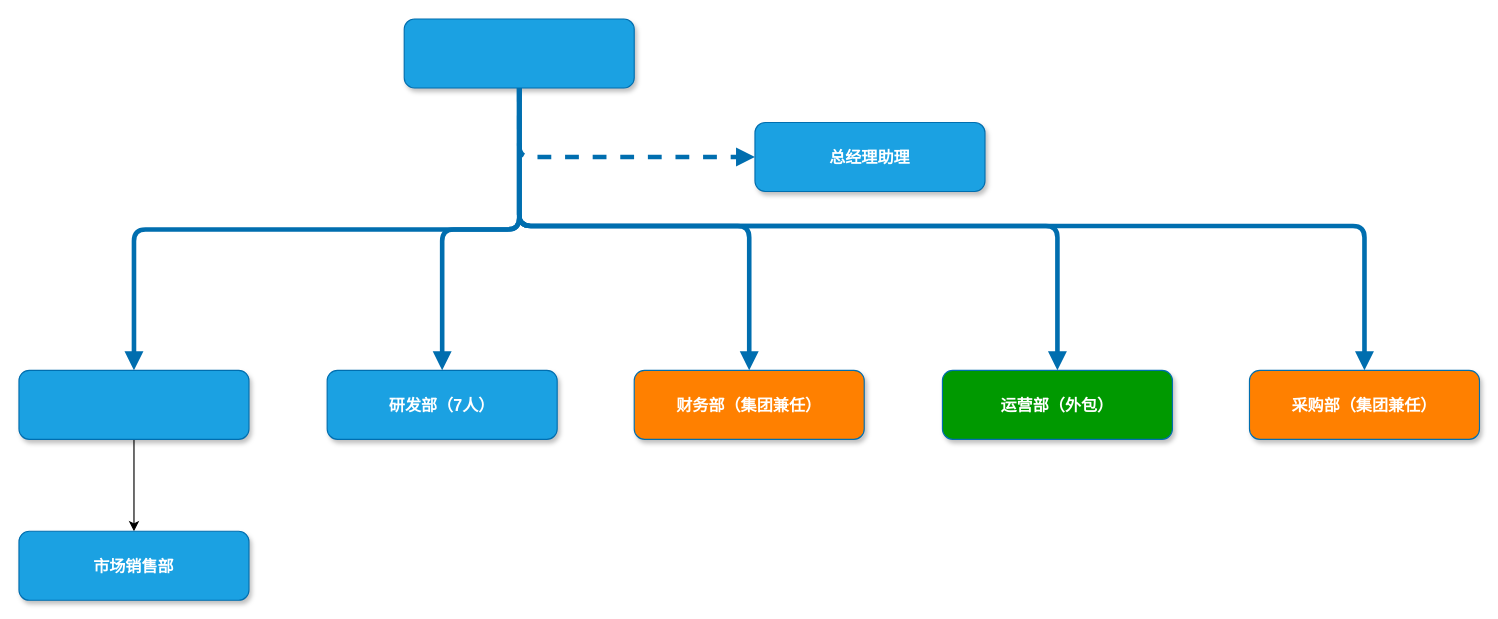
The diagram is 1498 pixels wide and 619 high, and some of its shapes have lost their labels. Each missing label, with the centre of its shape:
市场销售部（3人）: the point at 134,406
总经理（辜中云）: the point at 519,54
